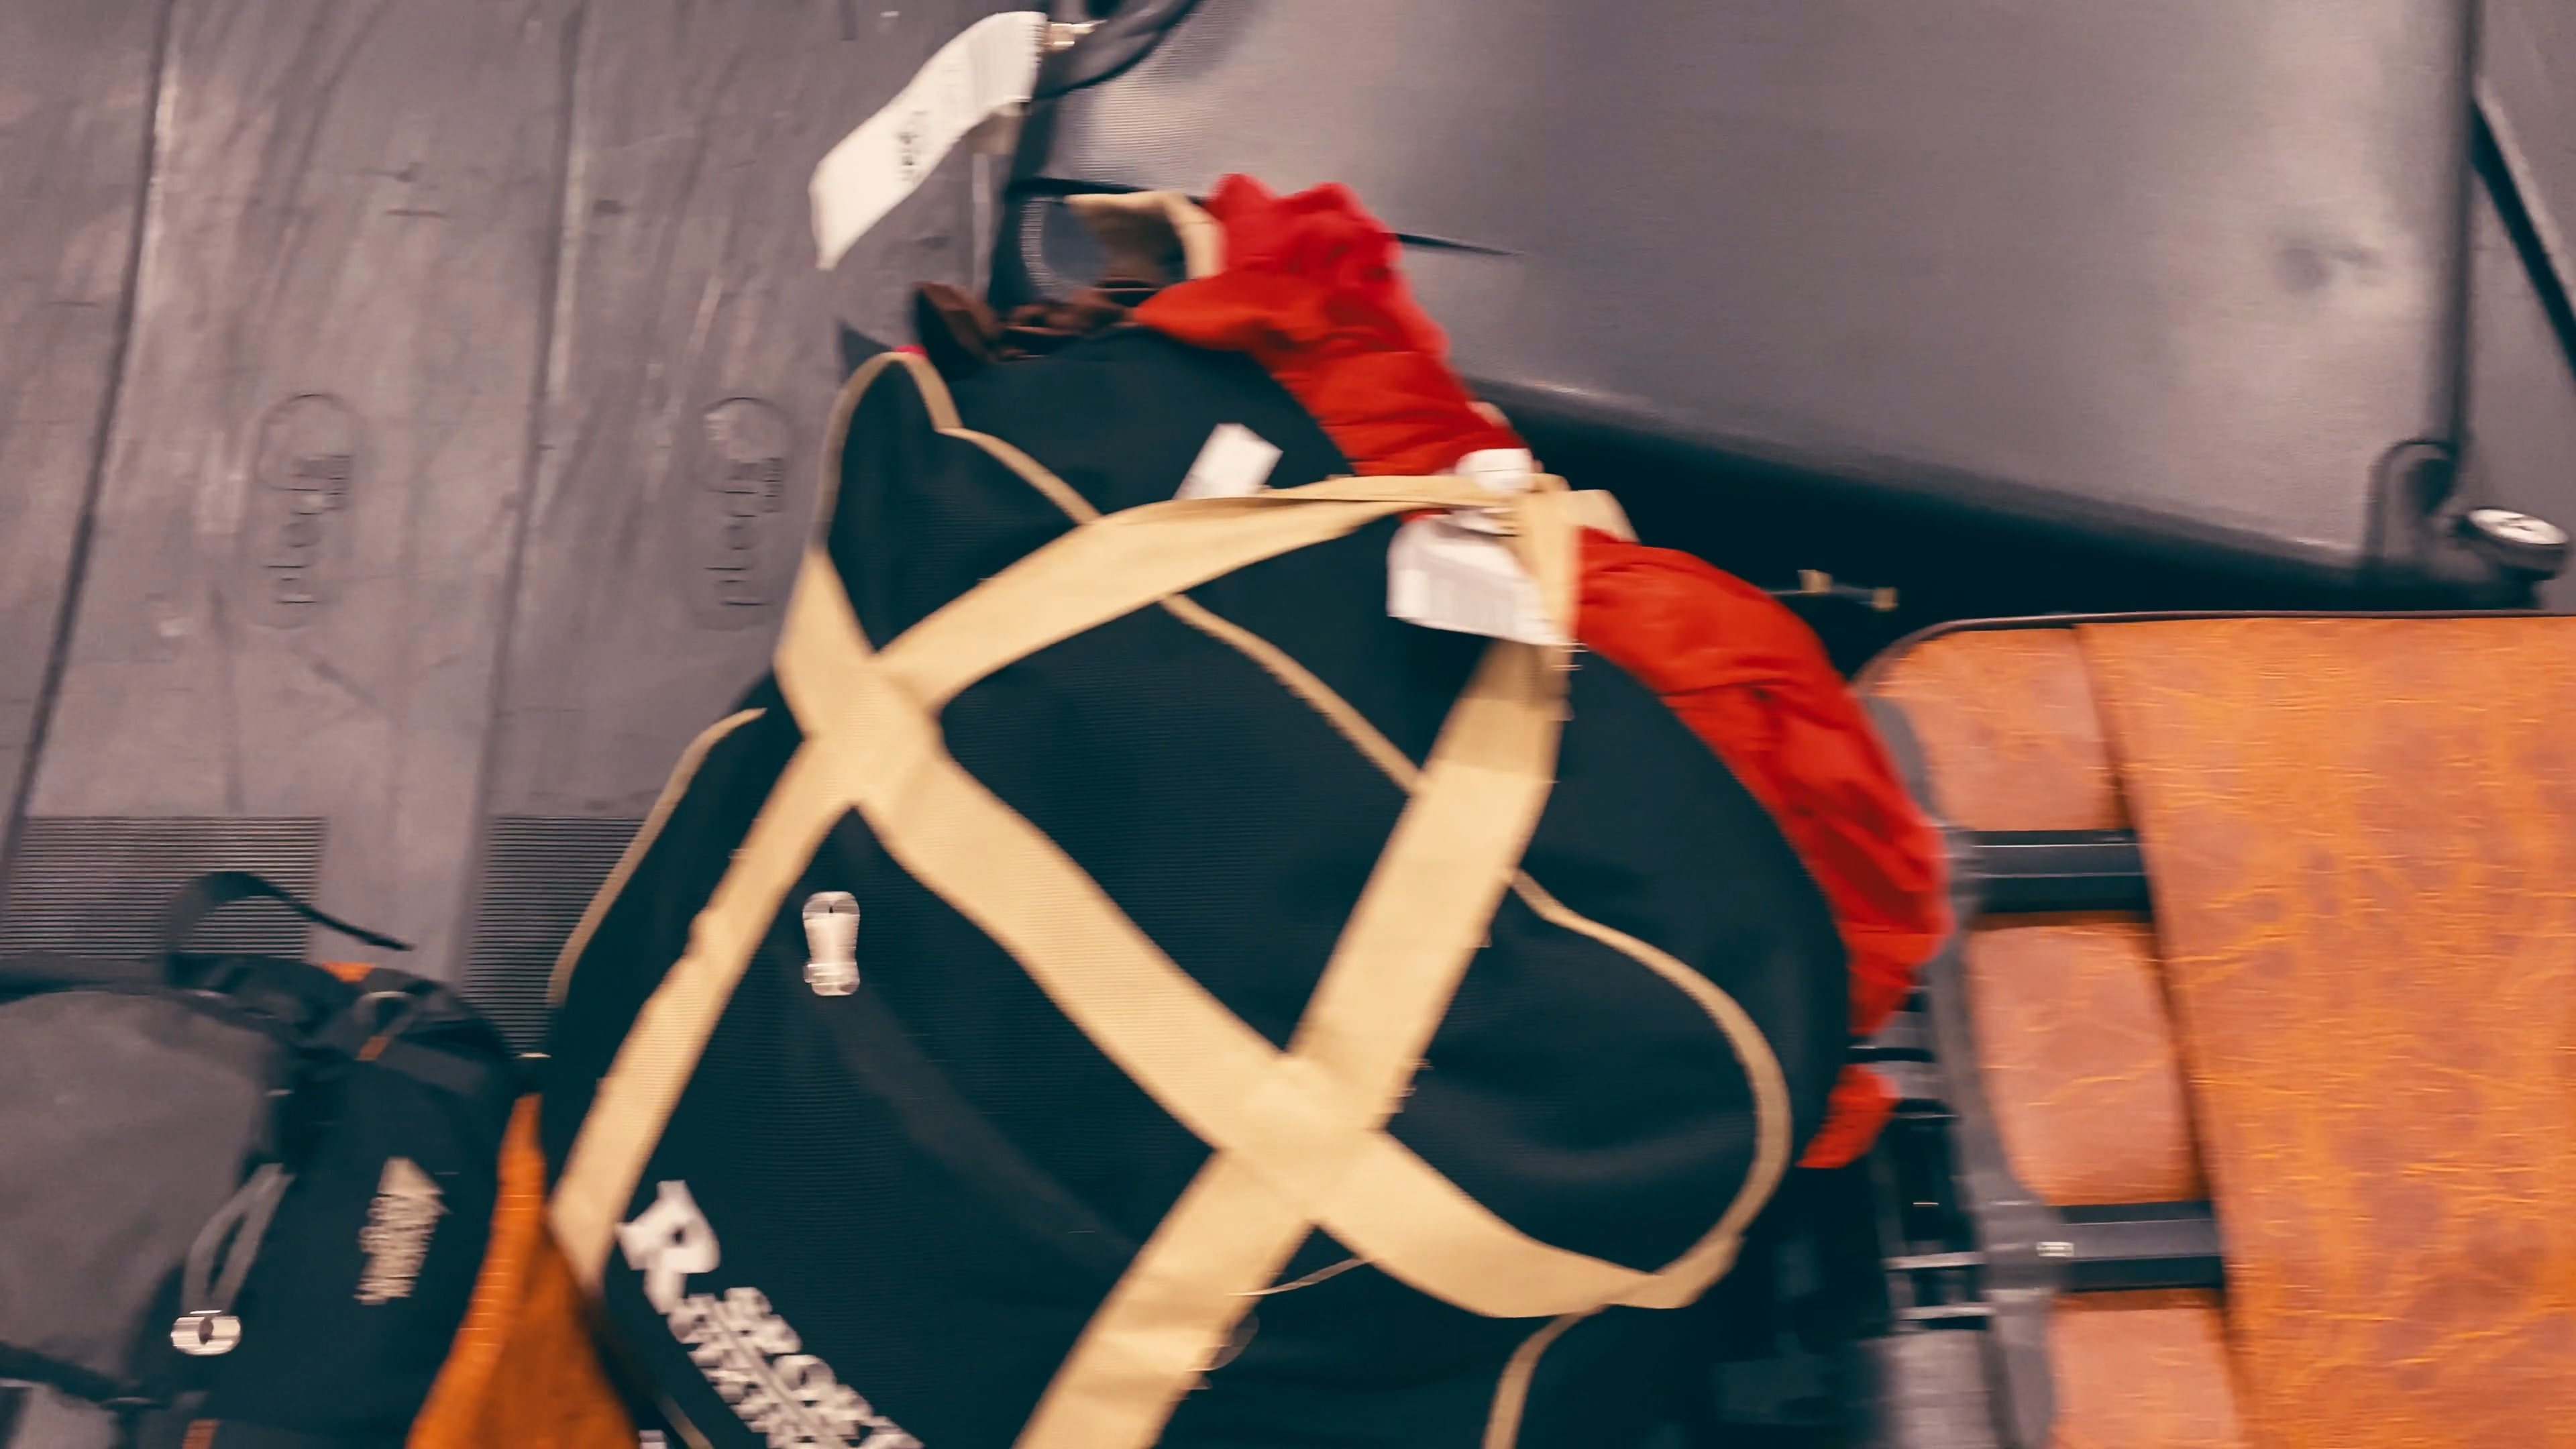baggage: (533, 285, 1960, 1449)
